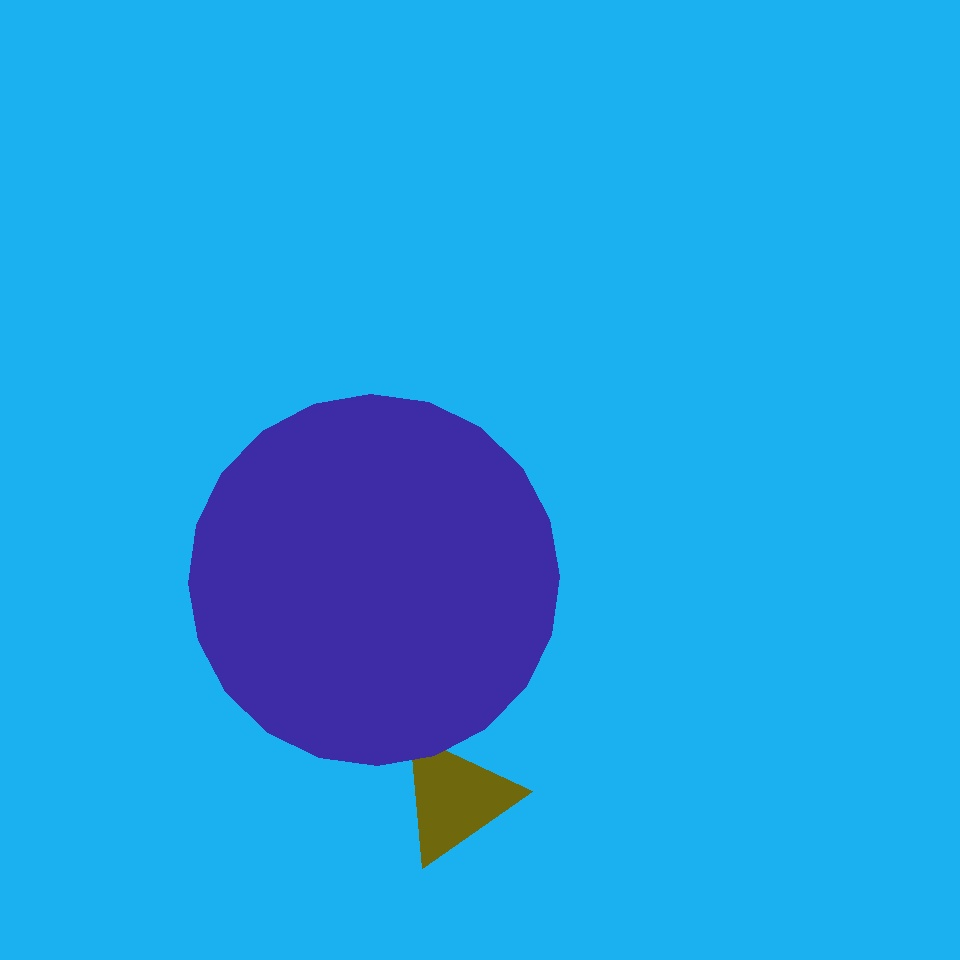circle: (293, 110, 598, 416), (394, 731, 516, 865)
square: (224, 180, 544, 500), (519, 765, 640, 886), (314, 37, 431, 155)
triangle: (188, 394, 560, 766), (364, 16, 719, 372), (477, 590, 636, 750)
